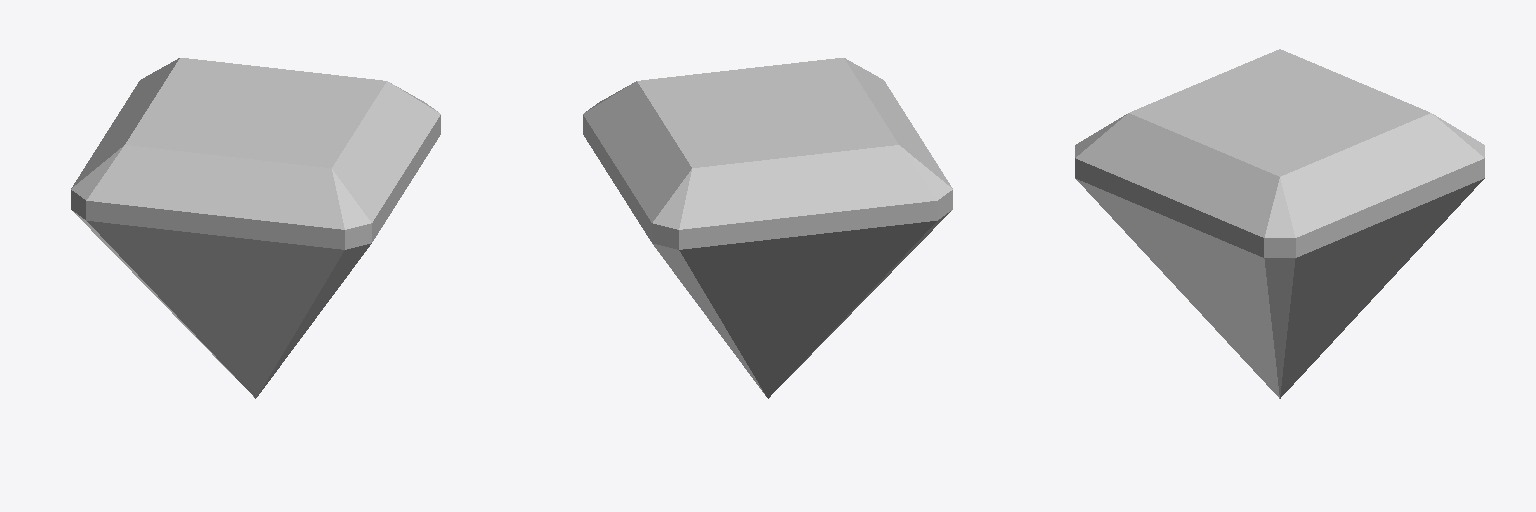
Rendered from 4-old-single-cut.obj.
3 views of the same model, side by side, from view 1: azimuth 30°, elevation 25°; view 2: azimuth 150°, elevation 25°; view 3: azimuth 270°, elevation 25° (orthographic).
Visible parts, largest first — view 1: gem_Cylinder; view 2: gem_Cylinder; view 3: gem_Cylinder.
Part boxes in pixels (x1,y1,x2,y2): gem_Cylinder: (71,58,440,398); gem_Cylinder: (583,58,952,398); gem_Cylinder: (1075,49,1484,398).
Bounding box in the file's own units: 18.59 × 14.32 × 18.59.